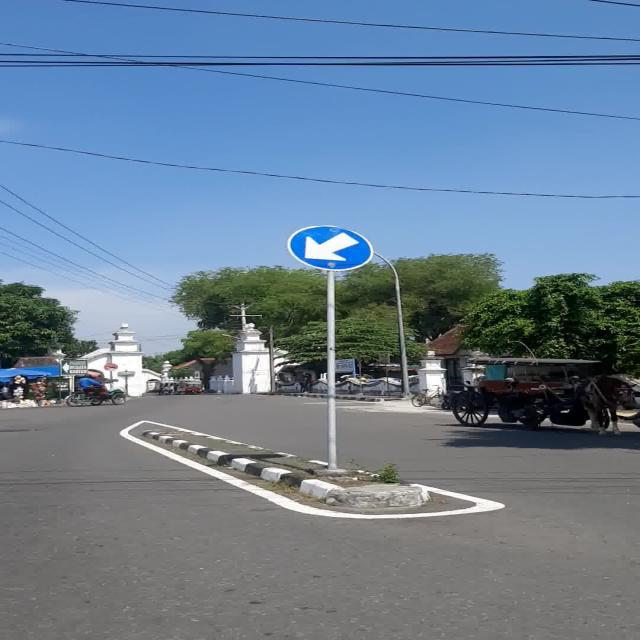Lajur Kiri: (286, 226, 374, 270)
